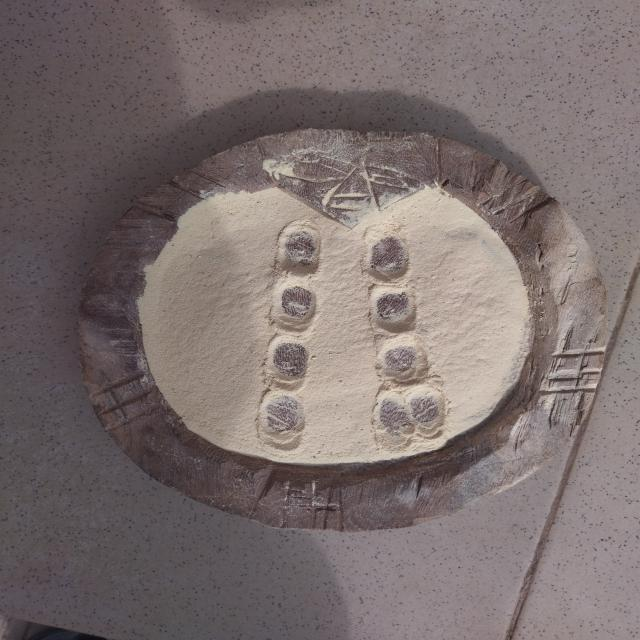double: (372, 384, 447, 442)
single: (370, 332, 434, 387), (271, 217, 325, 280), (256, 387, 307, 453), (268, 274, 320, 337), (366, 280, 421, 338), (362, 225, 413, 286), (262, 333, 313, 392)
